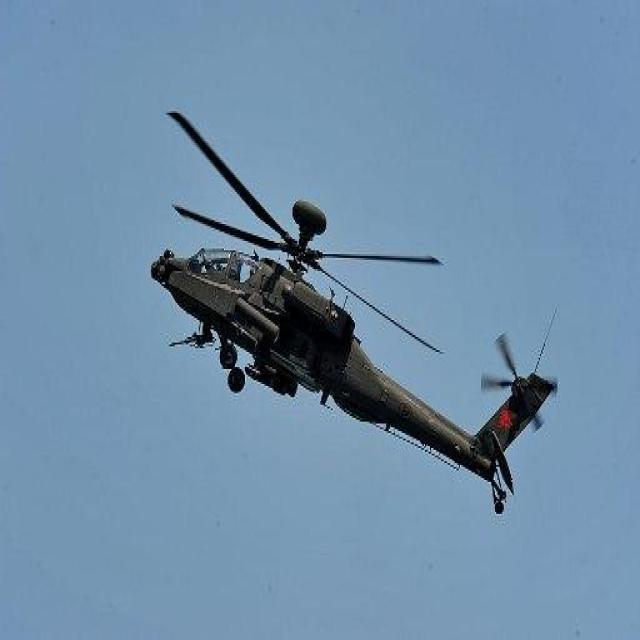MIL_HELO: (152, 93, 570, 541)
